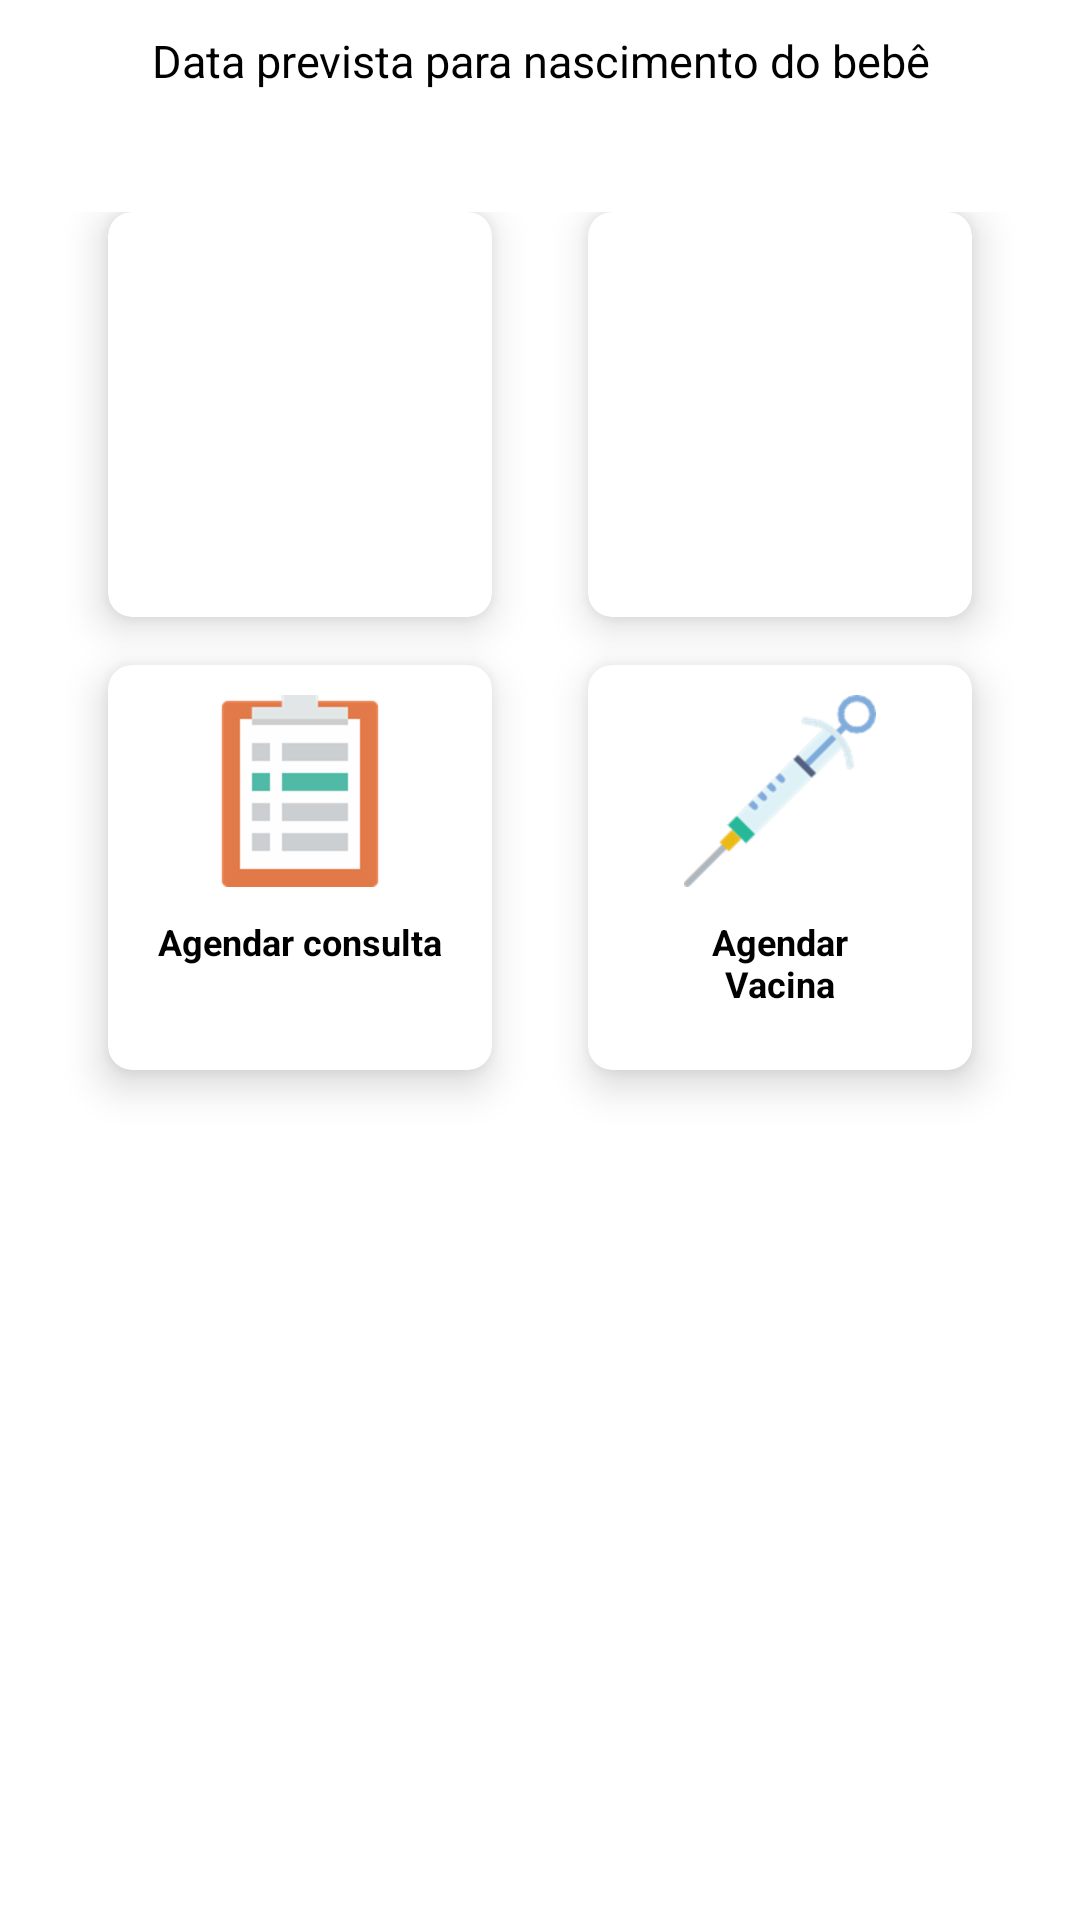

Named icons in this screenshot (1080*1920) and their centers, (x=x, y=y):
clipboard: (x=300, y=791)
syringe: (x=780, y=791)
